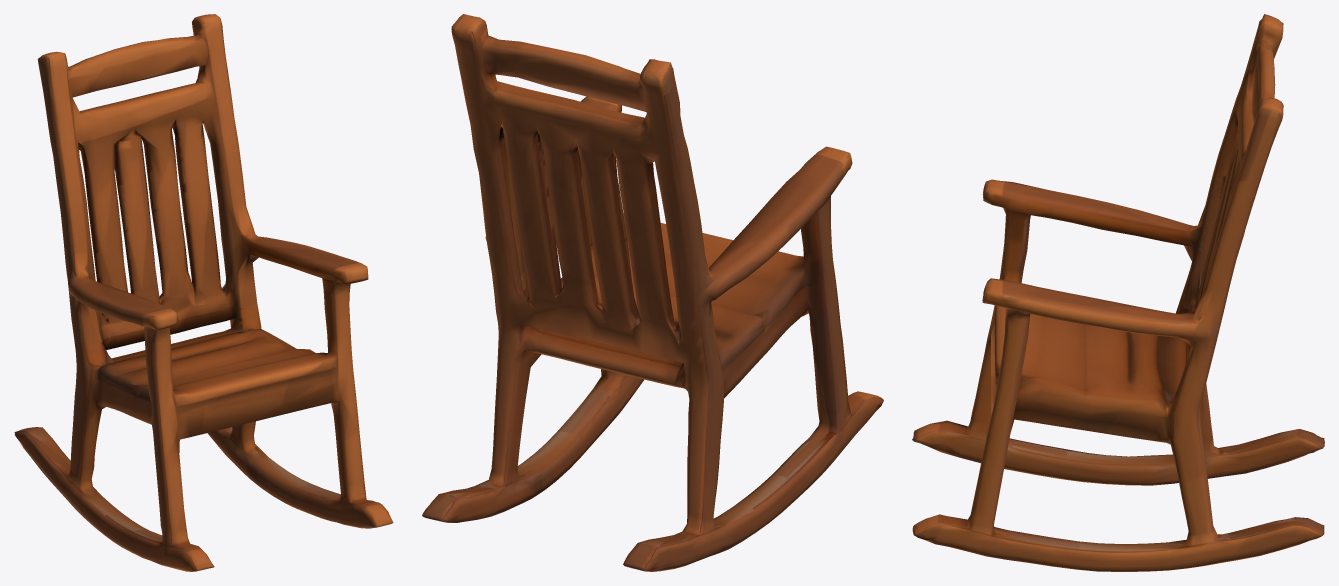
File: Rocking chair.glb
3 views of the same model, side by side, from view 1: azimuth 30°, elevation 25°; view 2: azimuth 150°, elevation 25°; view 3: azimuth 270°, elevation 25° (orthographic). The views are drawn at different scales.
Bounding box in the file's own units: 1.03 × 1.91 × 1.53.
Materials: 1 (1 with a texture image).
